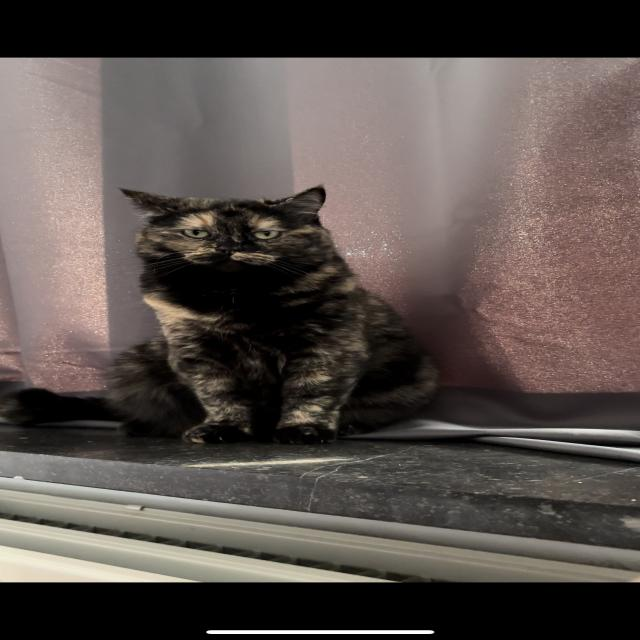authorized: (2, 183, 441, 445)
